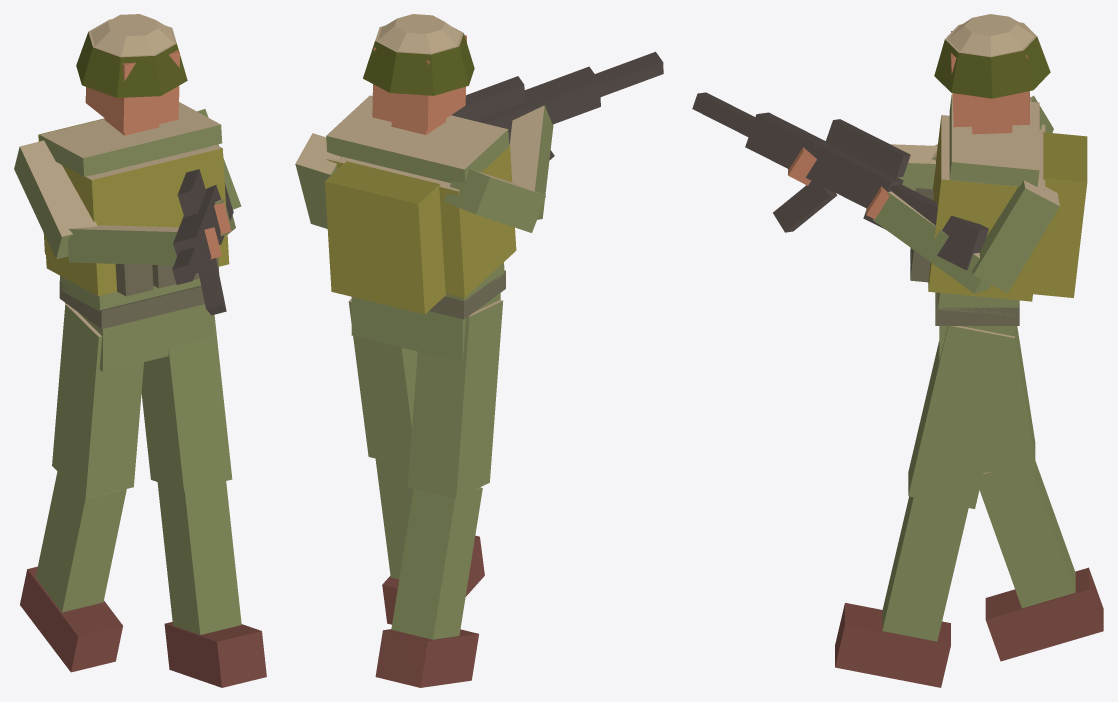
File: SM_SoldadoArmado_v0_G36E_Apuntando_LOD1.fbx
3 renders of one model, left to right at view 1: azimuth 30°, elevation 25°; view 2: azimuth 150°, elevation 25°; view 3: azimuth 270°, elevation 25°, orthographic.
Parts seen in each view (by area): view 1: SM_bloques.soldado_armado_v0_LOD1; view 2: SM_bloques.soldado_armado_v0_LOD1; view 3: SM_bloques.soldado_armado_v0_LOD1.
Boxes of the visible parts, <box> form: SM_bloques.soldado_armado_v0_LOD1: <box>14,14,266,687</box>; SM_bloques.soldado_armado_v0_LOD1: <box>295,14,663,687</box>; SM_bloques.soldado_armado_v0_LOD1: <box>692,14,1103,687</box>.
Size of the model in its own units: 0.5846 by 1.77 by 1.02.
